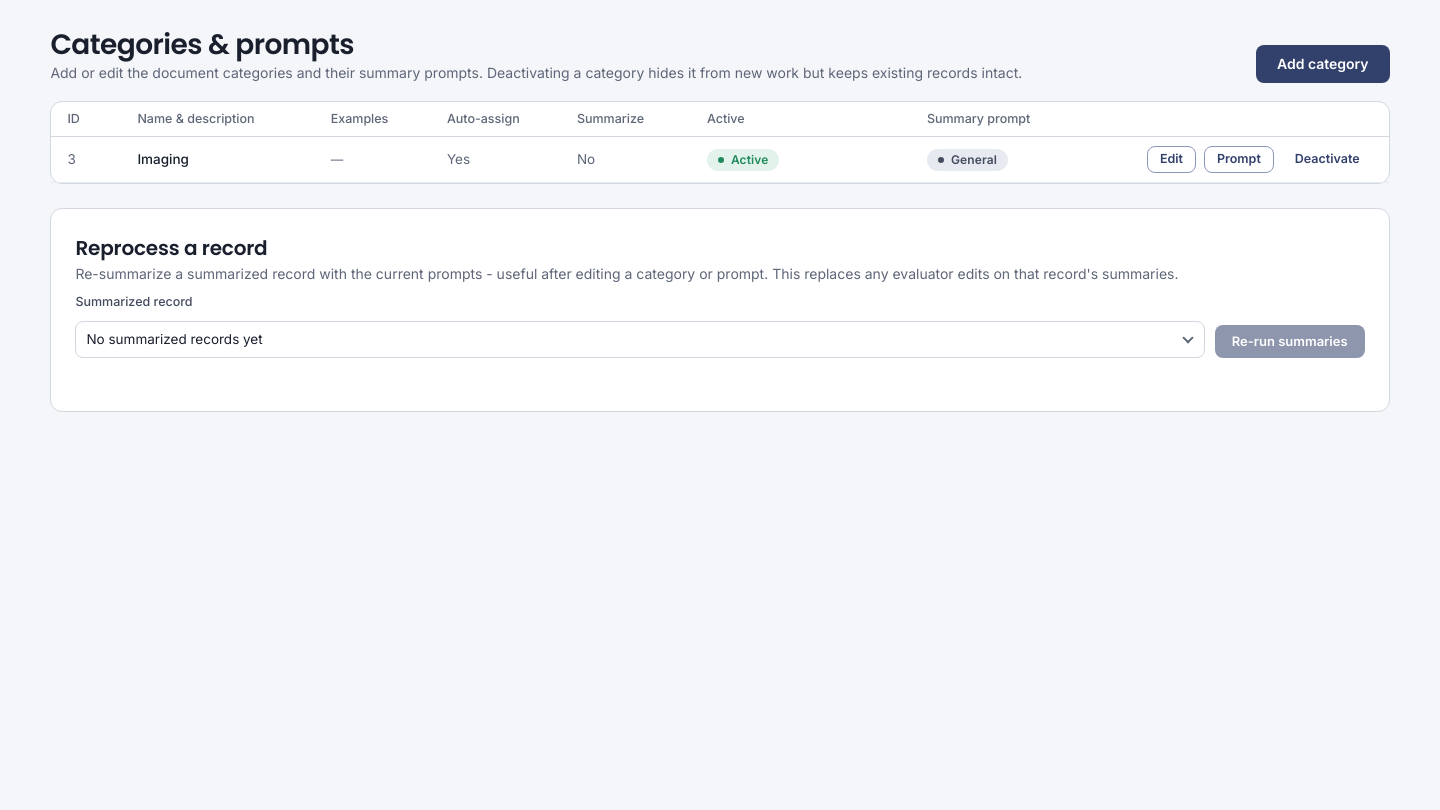
Test: AdminView summarize-default column › exposes a summarize-by-default toggle in the add-category dialog
This screenshot has width=1440, height=810.
Click the button "Add category" at (1323, 64), box [1256,45,1390,83]
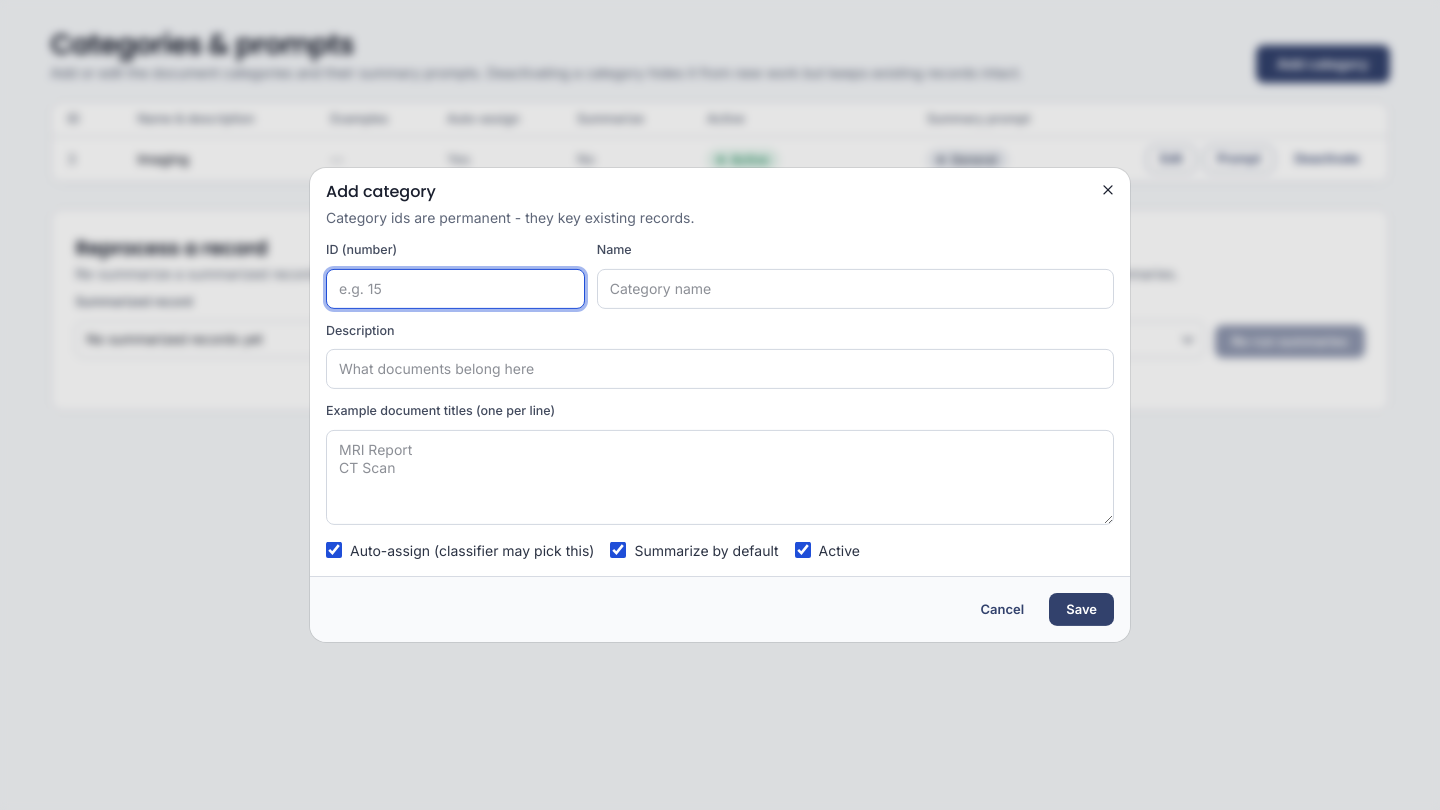
Result: the checkbox labelled "Summarize by default" is shown at [610,542,626,558]
